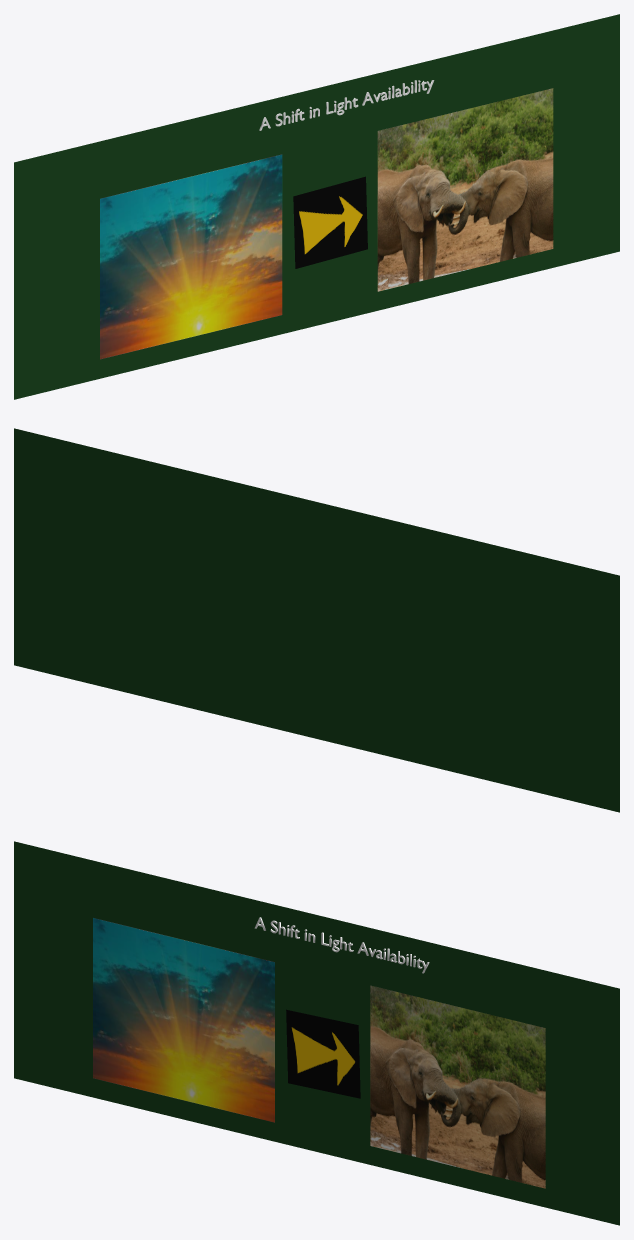
The model's file is cons5.gltf.
3 renders of one model, top to bottom at view 1: azimuth 30°, elevation 25°; view 2: azimuth 150°, elevation 25°; view 3: azimuth 330°, elevation 25°, orthographic.
Visible parts, largest first — view 1: Plane.013, Plane, Plane.001, Plane.003, Text.008; view 2: Plane.013; view 3: Plane.013, Plane, Plane.001, Plane.003, Text.008.
Boxes of the visible parts, x1,y1,x2,y2 form: Plane.013: [14, 14, 619, 399]; Plane: [100, 154, 282, 359]; Plane.001: [377, 88, 553, 291]; Plane.003: [293, 176, 367, 268]; Text.008: [259, 80, 434, 130]; Plane.013: [14, 428, 619, 812]; Plane.013: [14, 841, 619, 1225]; Plane: [93, 918, 274, 1122]; Plane.001: [370, 985, 545, 1188]; Plane.003: [286, 1009, 360, 1098]; Text.008: [254, 917, 429, 973].
Bounding box in the file's own units: 15.94 × 5.96 × 0.1767.
Materials: 5 (3 with a texture image).
